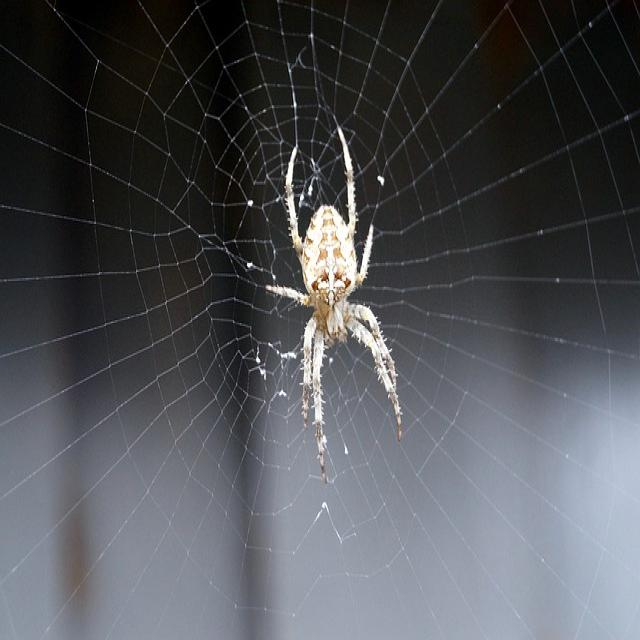spyder: (266, 138, 402, 482)
